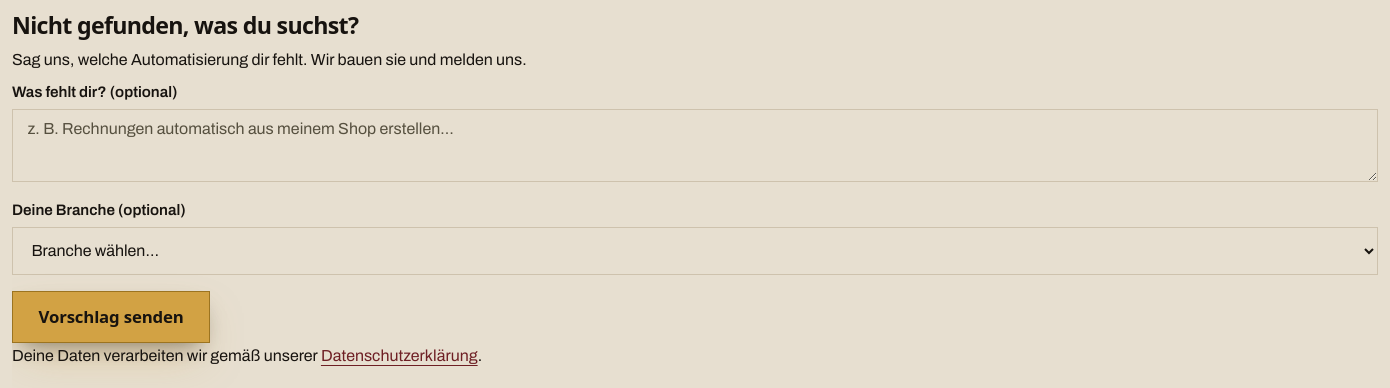
Test: CatalogRequestSection › for a logged-in user: no email/consent, submits with the account email
expect the button "Vorschlag senden" is enabled: met, box [12,291,210,343]
Type "Slack-Sync" into the text box labelled "Was fehlt dir? (optional)" at (695, 146), box [12,109,1378,182]
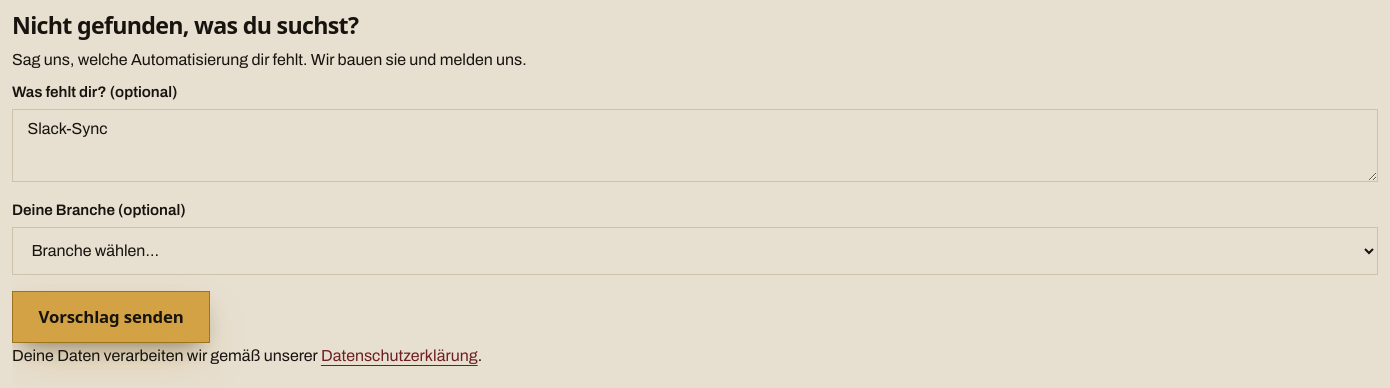
Click the button "Vorschlag senden" at (111, 317), box [12,291,210,343]
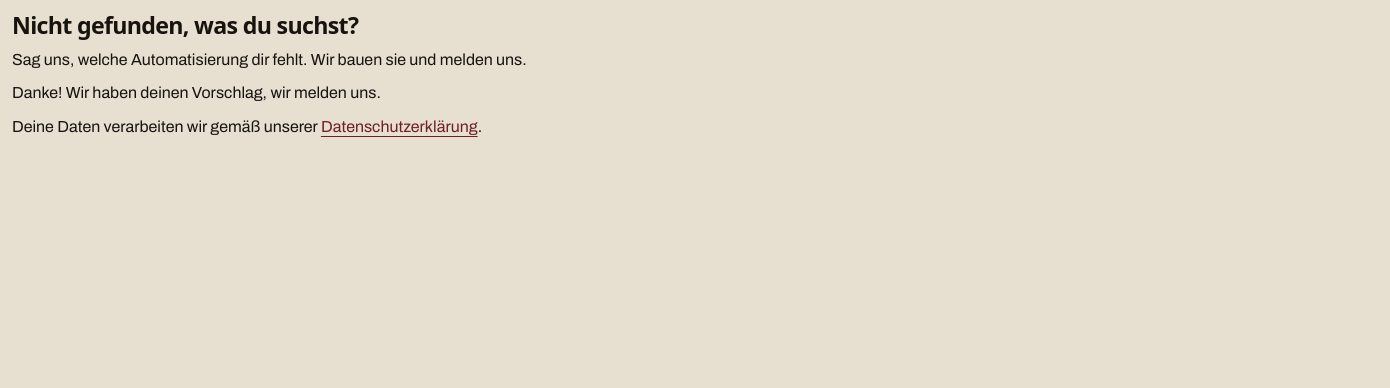
expect the text "Danke! Wir haben deinen Vorschlag, wir melden uns." is shown: met, box [12,84,381,101]
